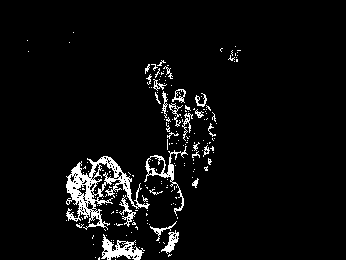person: (140, 155, 187, 253), (101, 163, 143, 260), (68, 154, 106, 237), (188, 92, 218, 189), (163, 87, 191, 176)
